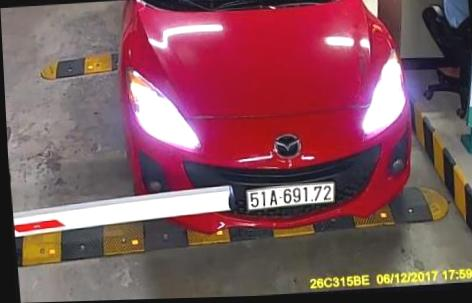License_Plate: (238, 181, 339, 213)
